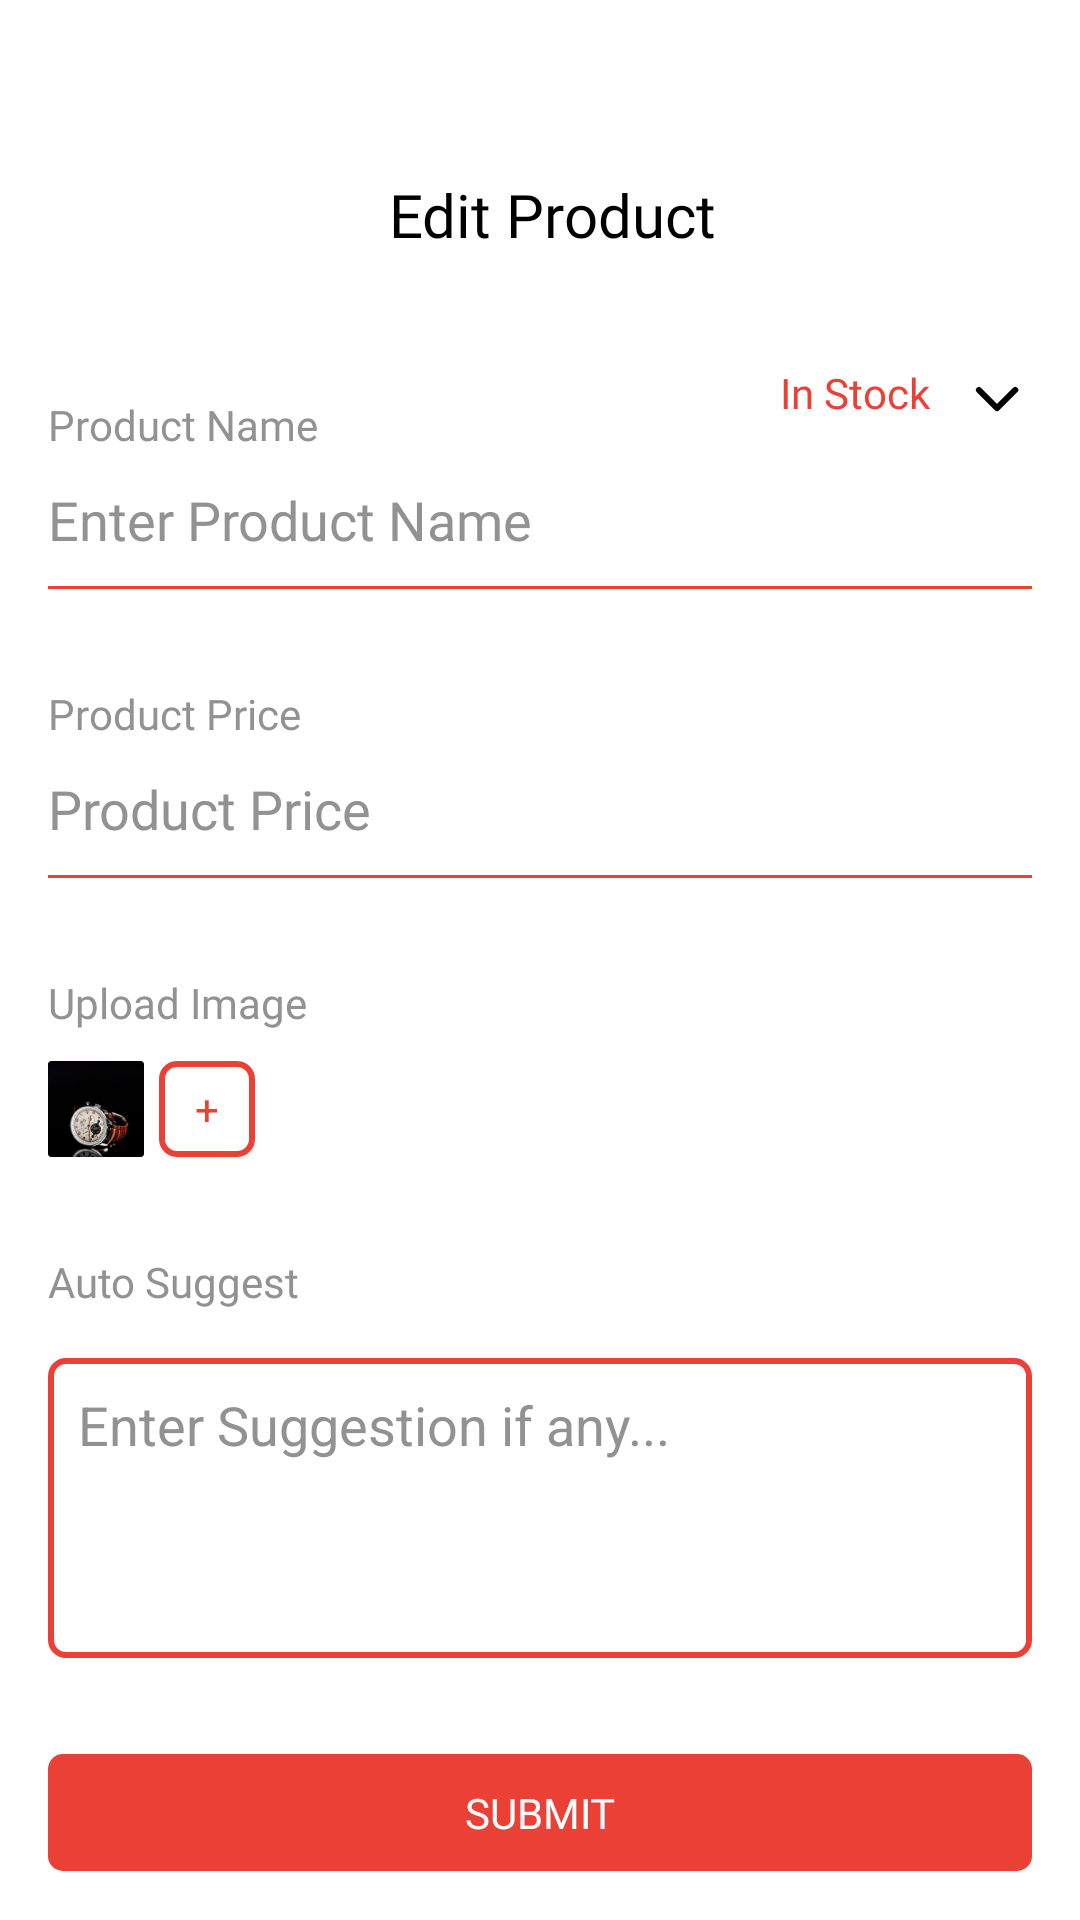

Icons on this 1080px x 1920px Android screen, each with the point to tap as (x=x, y=y):
arrow down: (x=997, y=399)
watch: (x=96, y=1109)
